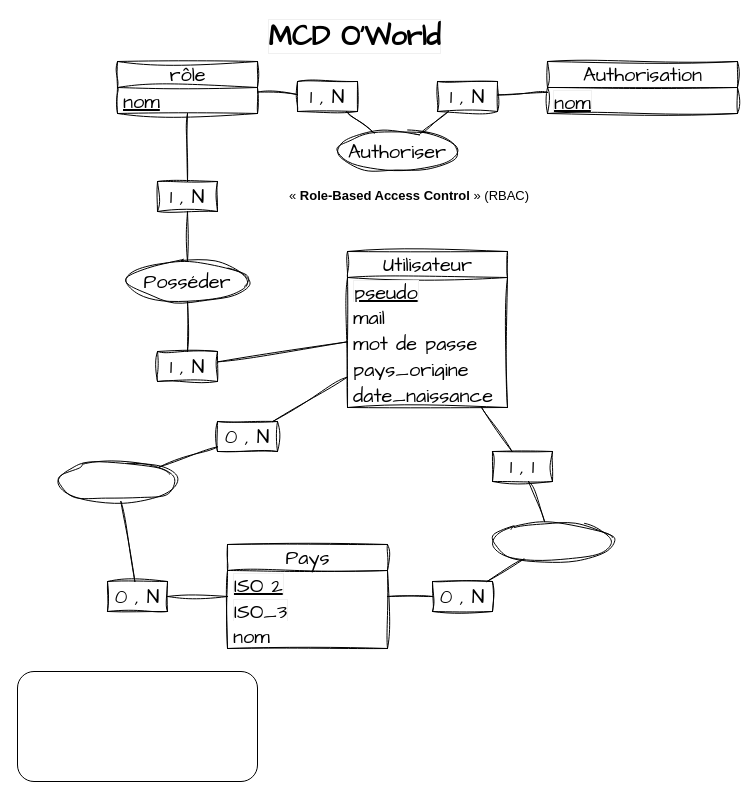
Some shapes in this 755 by 799 pixel diagram are drawn without their labels. Each missing label, with the centre of its shape:
"Favoris" belongs at point (117, 481).
"Origine" belongs at point (552, 541).
"Plus appel aux API externe" belongs at point (137, 726).
